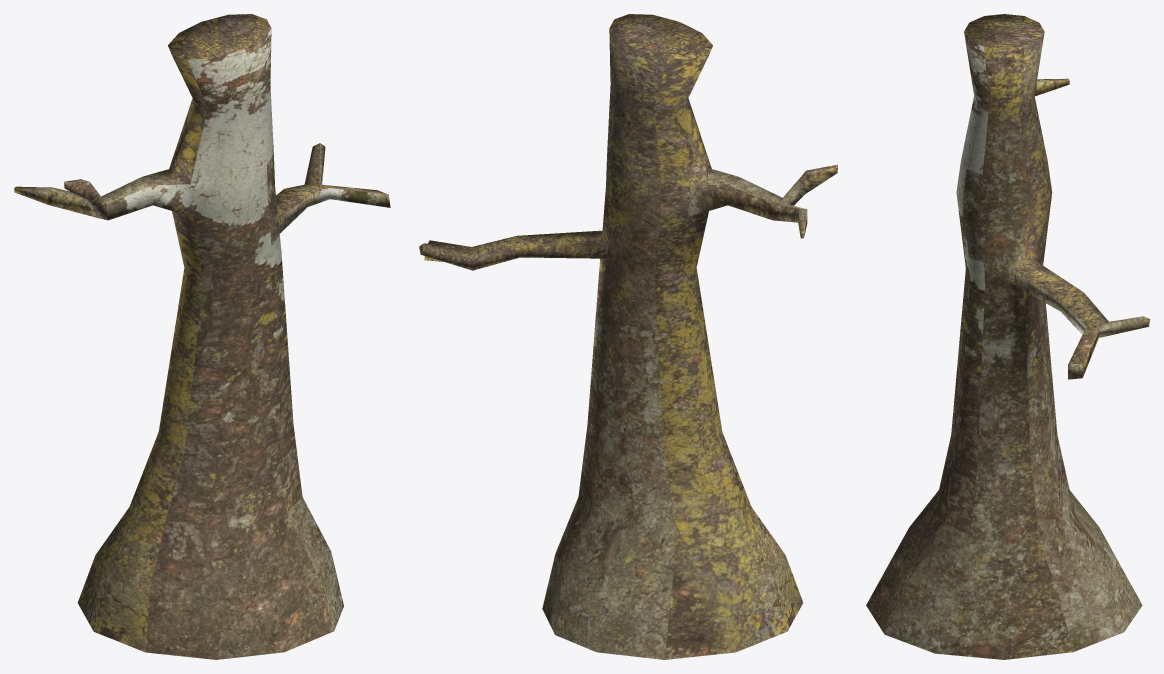
File: DrySwampTree.fbx
The picture shows the model from 3 angles, left to right: view 1: azimuth 30°, elevation 25°; view 2: azimuth 150°, elevation 25°; view 3: azimuth 270°, elevation 25°; orthographic projection.
Visible parts, largest first — view 1: DrySwampTree; view 2: DrySwampTree; view 3: DrySwampTree.
Part boxes in pixels (x1,y1,x2,y2): DrySwampTree: [14, 14, 390, 659]; DrySwampTree: [419, 14, 837, 659]; DrySwampTree: [866, 14, 1149, 659].
Bounding box in the file's own units: 3.06 × 4.46 × 1.96.
